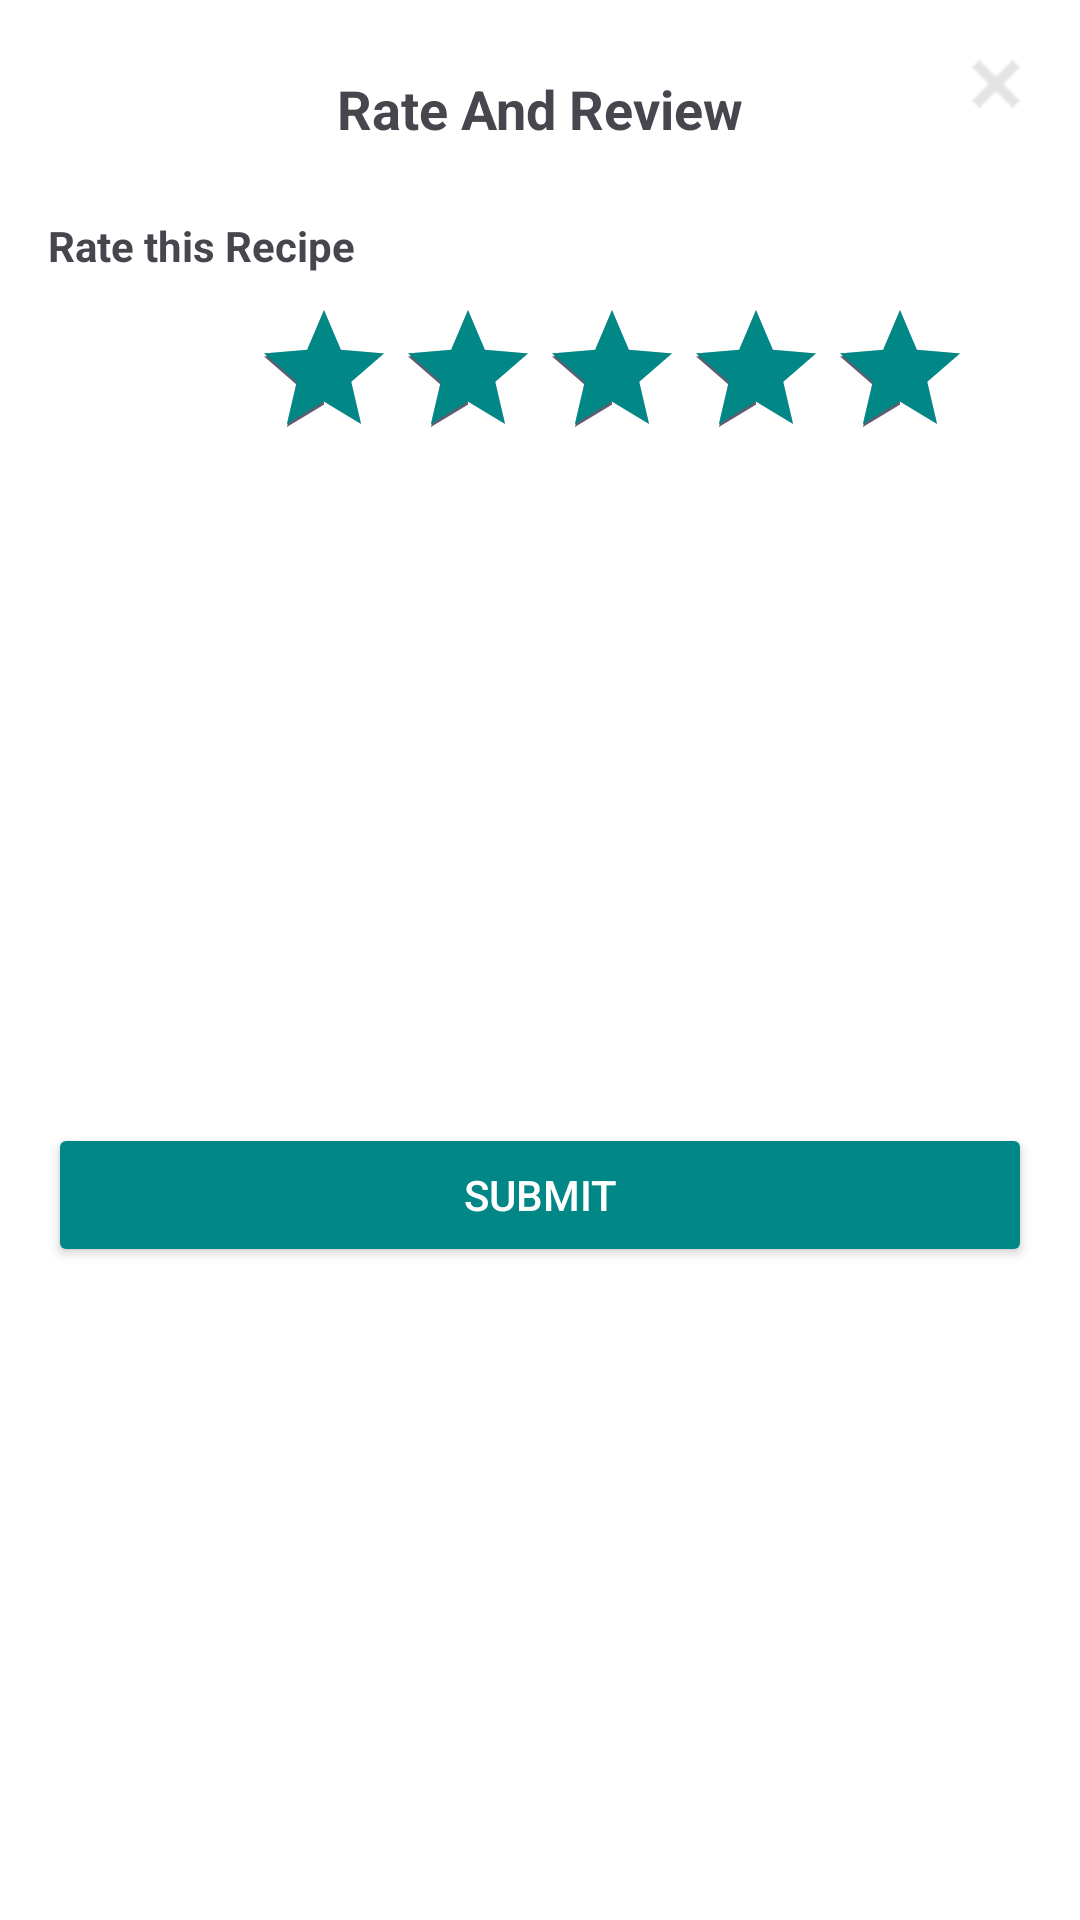

Screen size 1080 x 1920. Icon name, then its box in pixels as (x1, y1, x2, y2):
close: (974, 62, 1018, 106)
